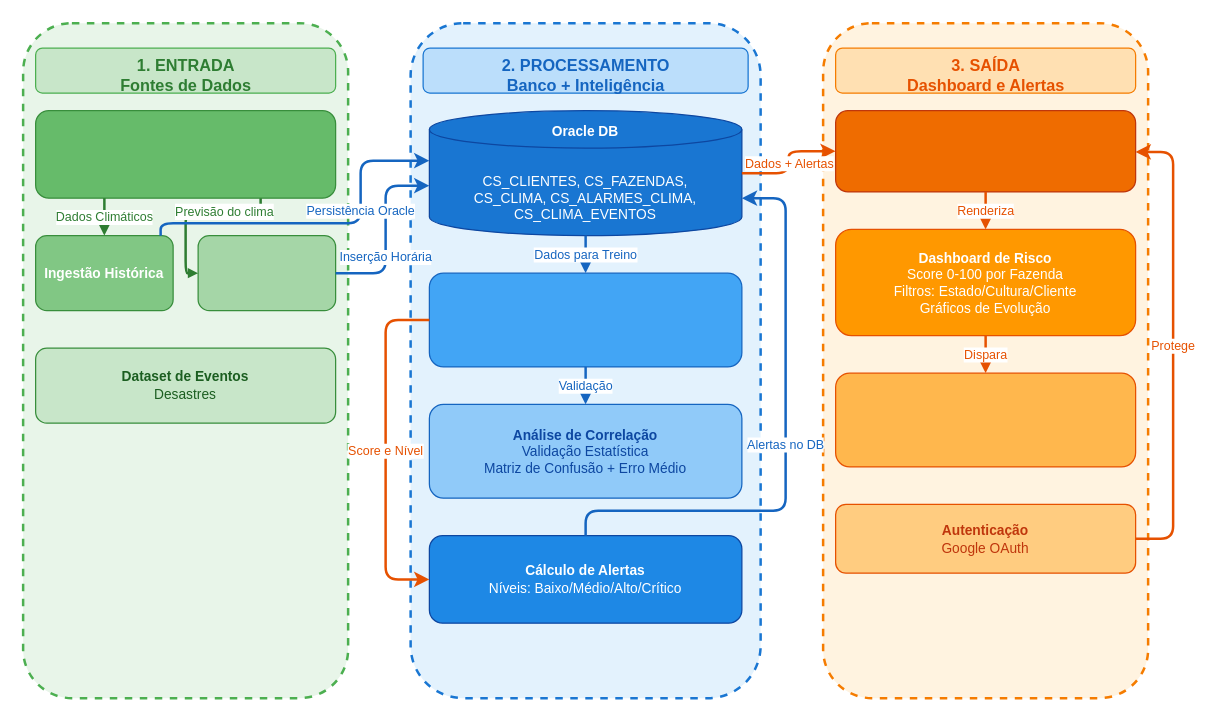
Some shapes in this 1216 by 720 pixel diagram are drawn without their labels. The shapes that lost their labels are listed below. From the top down, each one's centre as x and y in pixels, then its label:
At point (185, 153): "Open-Meteo API Dados Climáticos Histórico e Tempo Real".
At point (985, 150): "Streamlit Cloud".
At point (266, 272): "Ingestão em Tempo Real".
At point (585, 319): "Modelo Preditivo ML Score de Risco (0-100) Classificação Random Forest".
At point (985, 419): "Painel de Alertas Notificações por Nível Recomendações Preventivas".
